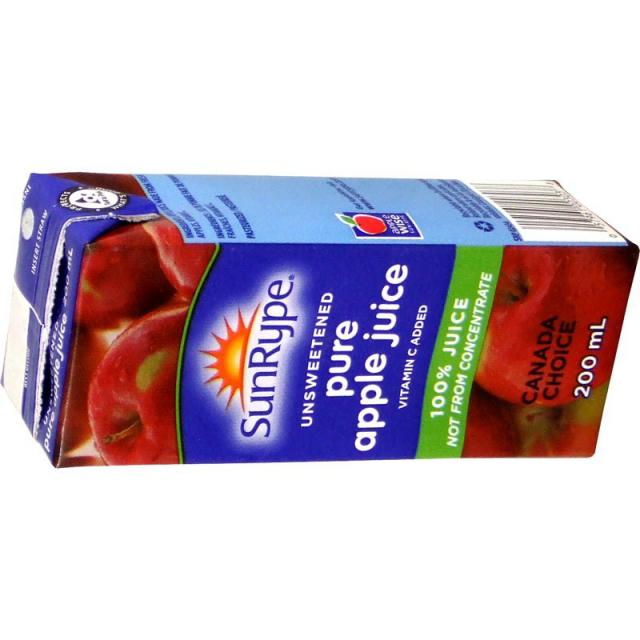non_white_jug: (11, 171, 627, 462)
